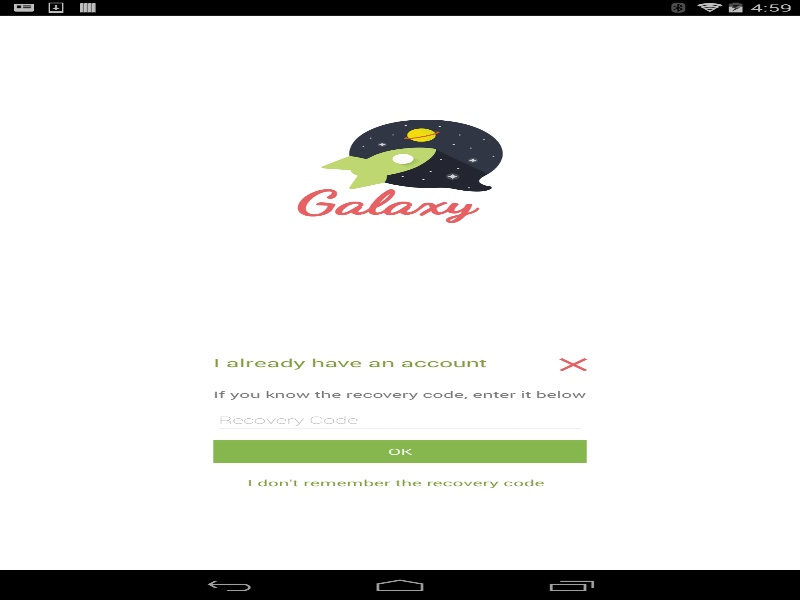Input: (213, 406, 586, 433)
